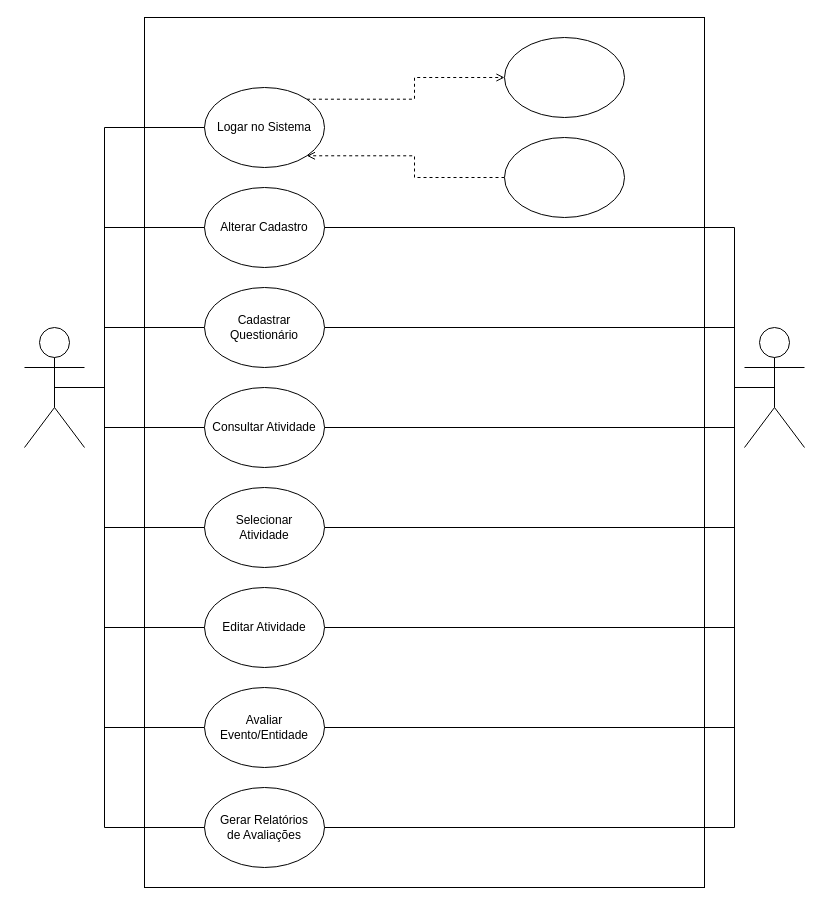
Image size: 822x905. Some labels were removed from this diagram. Each missing label, with the centre of its shape:
Administrador: (54,387)
Entidade: (774,387)
Enviar mensagem de erro: (564,177)
Validar login: (564,77)
